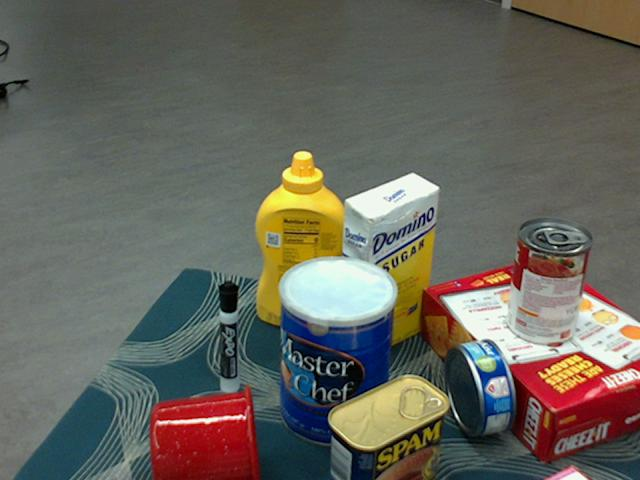cracker_box: (418, 257, 639, 458)
gelatin_box: (539, 465, 587, 479)
large_marker: (217, 280, 237, 393)
master_chef_can: (279, 257, 398, 448)
mug: (149, 384, 259, 479)
mustard_bottle: (254, 151, 348, 329)
potted_meat_can: (327, 375, 449, 479)
sugar_box: (336, 174, 440, 362)
tomato_soup_can: (506, 219, 592, 347)
tuna_fish_can: (445, 338, 517, 436)
